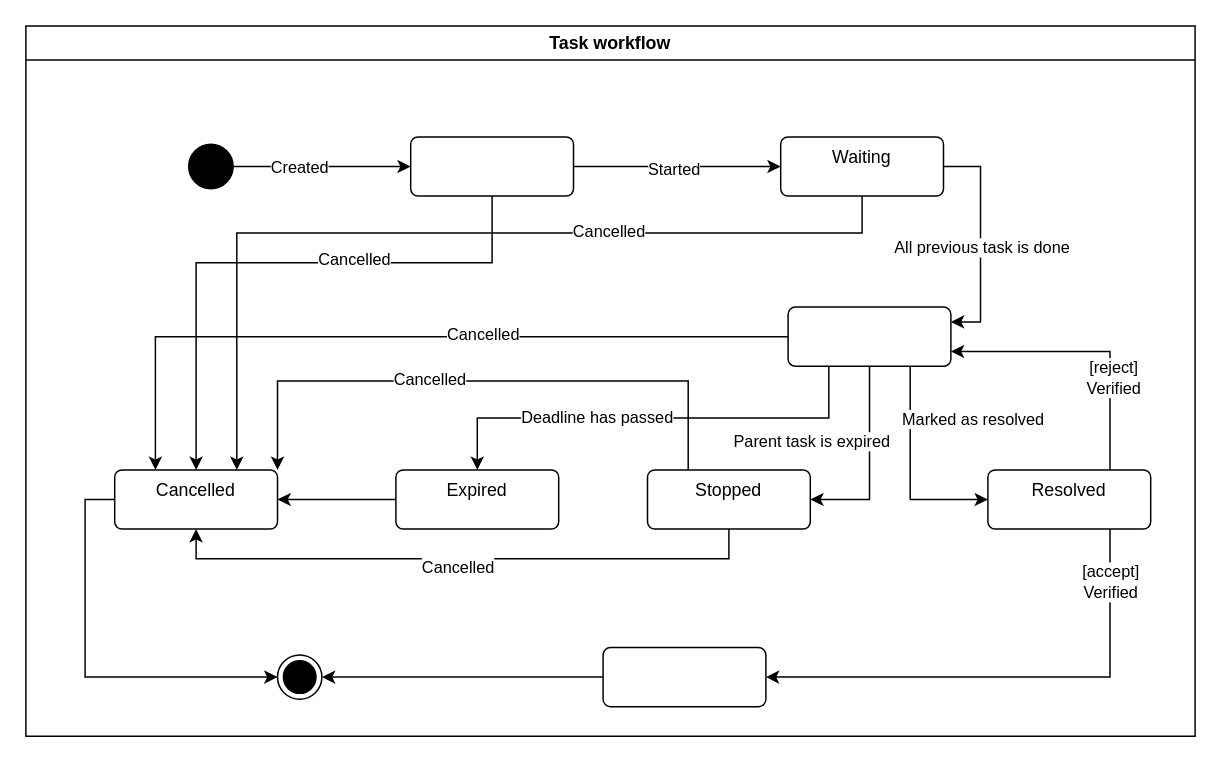
Image size: 1221x762. Some labels were removed from this diagram. The shapes that lost their labels are listed below. From the top down, each one's centre as x and y in pixels, then its label:
(491,165): Not started
(869,336): In progress
(684,676): Done
